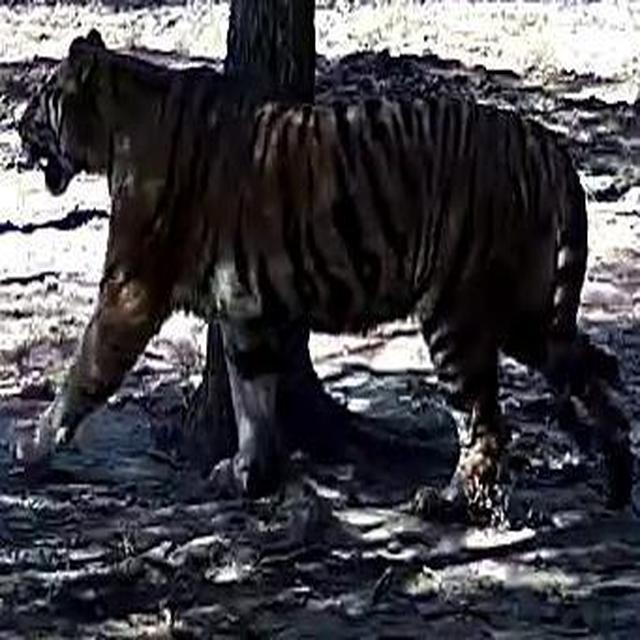tiger: (17, 27, 634, 528)
